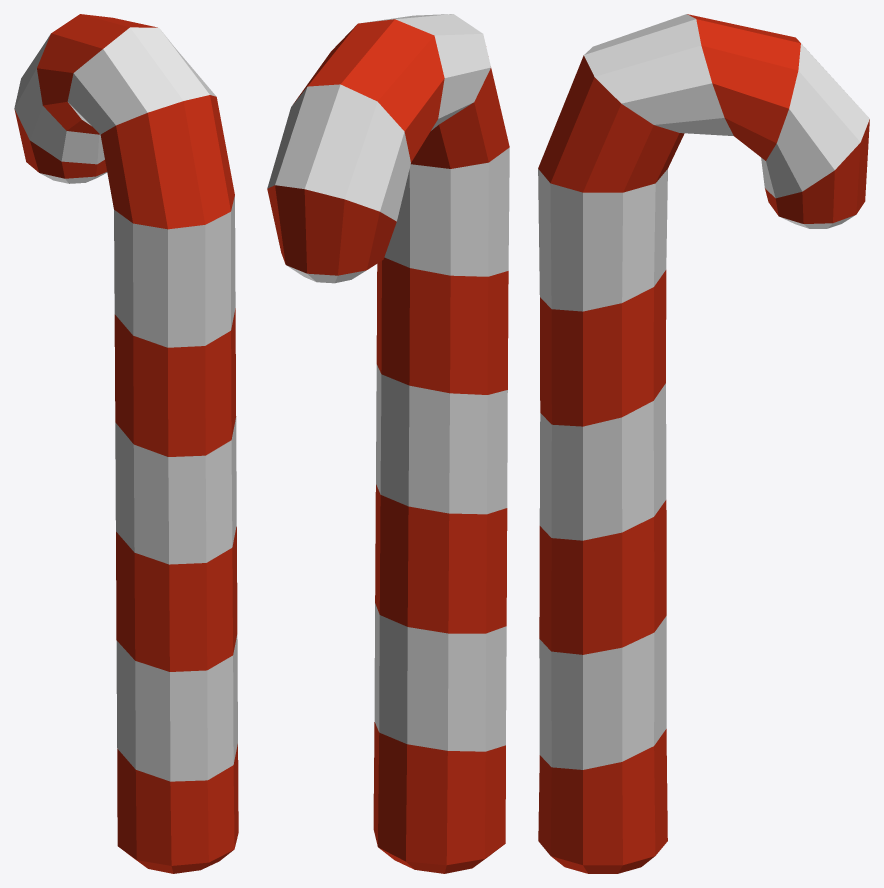
The model's file is Sugarcane.fbx.
The picture shows the model from 3 angles, left to right: view 1: azimuth 30°, elevation 25°; view 2: azimuth 150°, elevation 25°; view 3: azimuth 270°, elevation 25°; orthographic projection. The views are drawn at different scales.
Parts seen in each view (by area): view 1: Cylinder; view 2: Cylinder; view 3: Cylinder.
Part boxes in pixels (x1=…): Cylinder: x1=14, y1=14, x2=238, y2=873; Cylinder: x1=267, y1=14, x2=509, y2=873; Cylinder: x1=538, y1=14, x2=869, y2=873.
Size of the model in its own units: 93.19 by 672 by 242.
